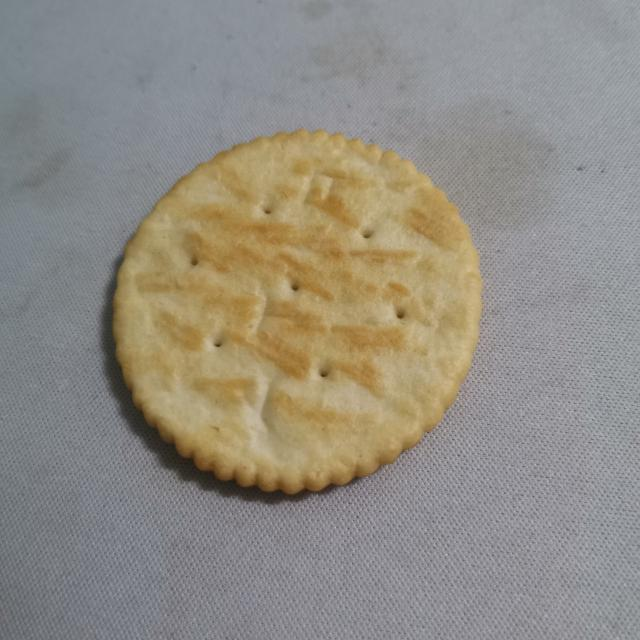Intact: (95, 122, 492, 504)
